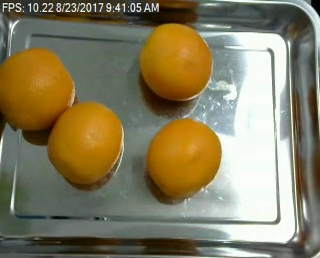Orange: (47, 100, 123, 185), (1, 47, 75, 130), (146, 117, 222, 197), (138, 22, 213, 100)
